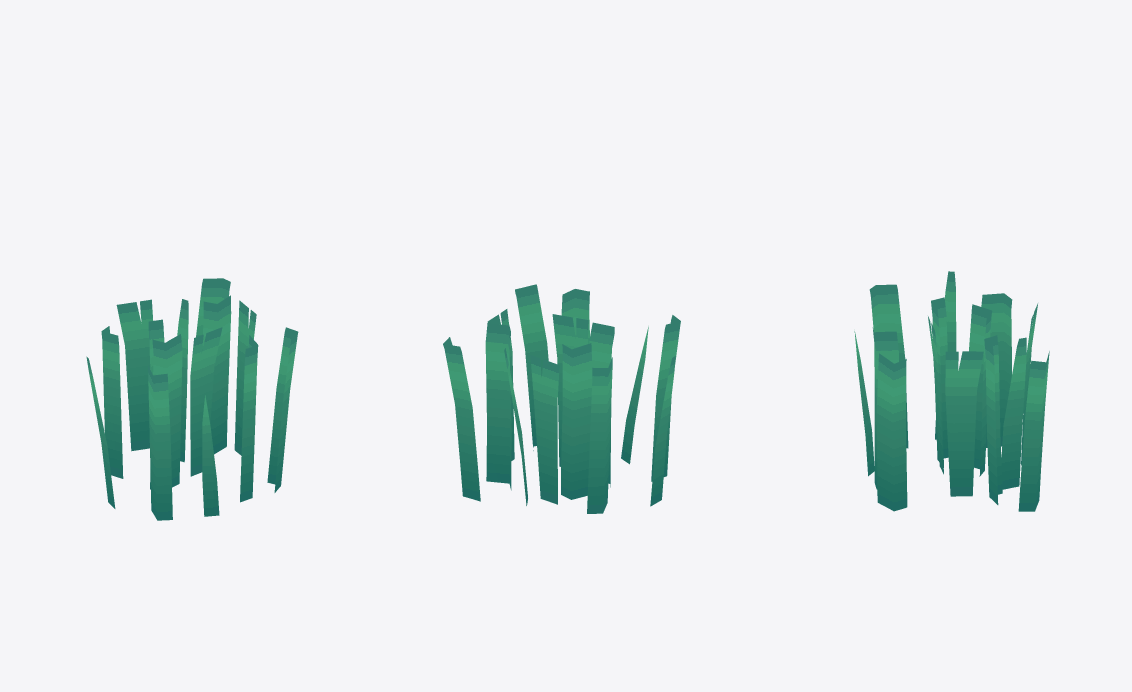
The model's file is Grass_Common_Tall.fbx.
3 views of the same model, side by side, from view 1: azimuth 30°, elevation 25°; view 2: azimuth 150°, elevation 25°; view 3: azimuth 270°, elevation 25° (orthographic). The views are drawn at different scales.
Parts seen in each view (by area): view 1: Grass_Common_Tall; view 2: Grass_Common_Tall; view 3: Grass_Common_Tall.
Boxes of the visible parts, left/top/right/bottom form: Grass_Common_Tall: left=86, top=278, right=298, bottom=520; Grass_Common_Tall: left=443, top=284, right=680, bottom=513; Grass_Common_Tall: left=854, top=271, right=1049, bottom=511.
Size of the model in its own units: 89.51 by 187 by 99.31.
